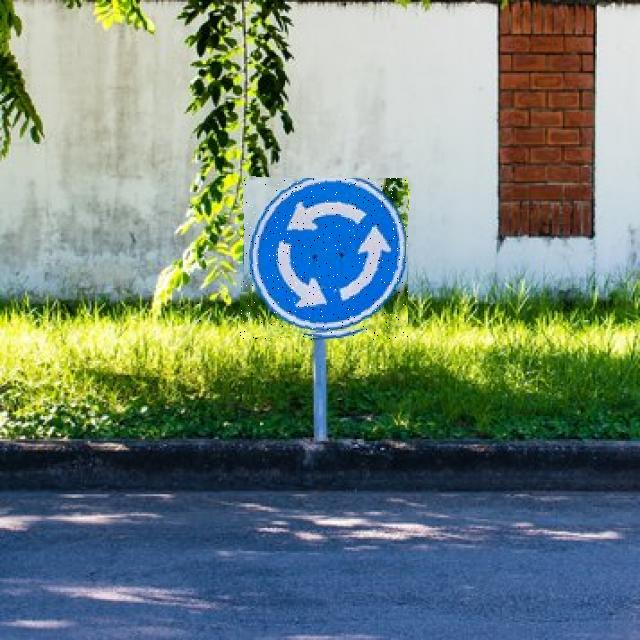roundabout: (240, 178, 408, 340)
